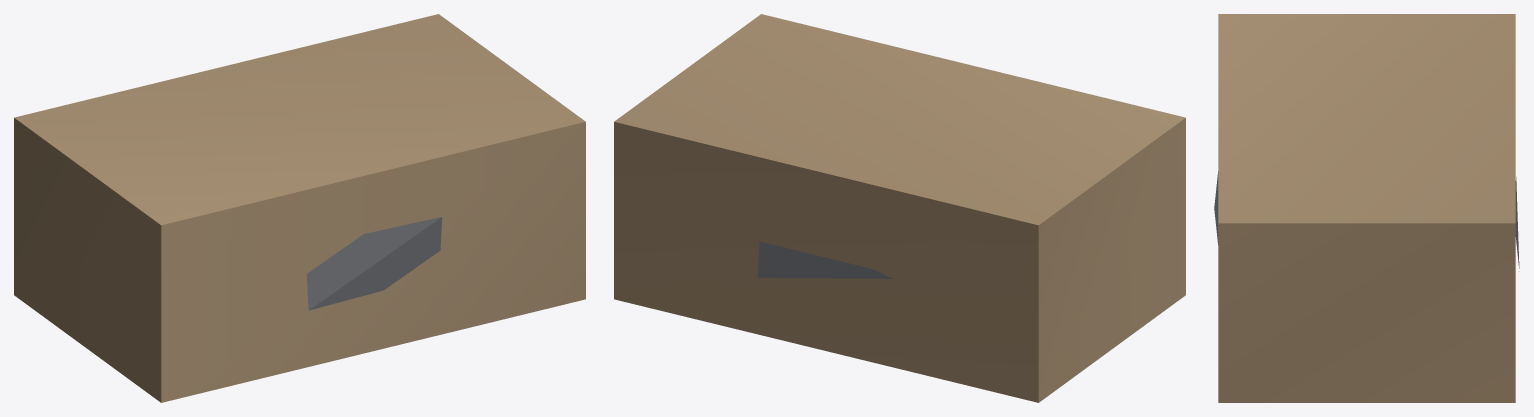
File: Prop_AppleBox_Full_LOD1.glb
3 renders of one model, left to right at view 1: azimuth 30°, elevation 25°; view 2: azimuth 150°, elevation 25°; view 3: azimuth 270°, elevation 25°, orthographic.
Parts seen in each view (by area): view 1: Prop_AppleBox_Full_LOD1; view 2: Prop_AppleBox_Full_LOD1; view 3: Prop_AppleBox_Full_LOD1.
Part boxes in pixels (x1,y1,x2,y2): Prop_AppleBox_Full_LOD1: [14, 14, 585, 402]; Prop_AppleBox_Full_LOD1: [614, 14, 1185, 402]; Prop_AppleBox_Full_LOD1: [1214, 14, 1519, 402].
Size of the model in its own units: 0.508 by 0.203 by 0.3127.
